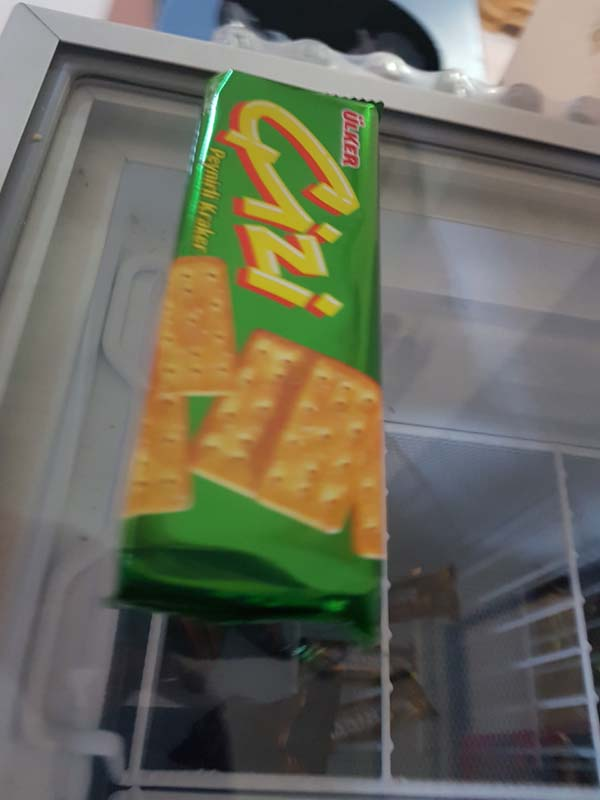cizi: (111, 59, 405, 628)
